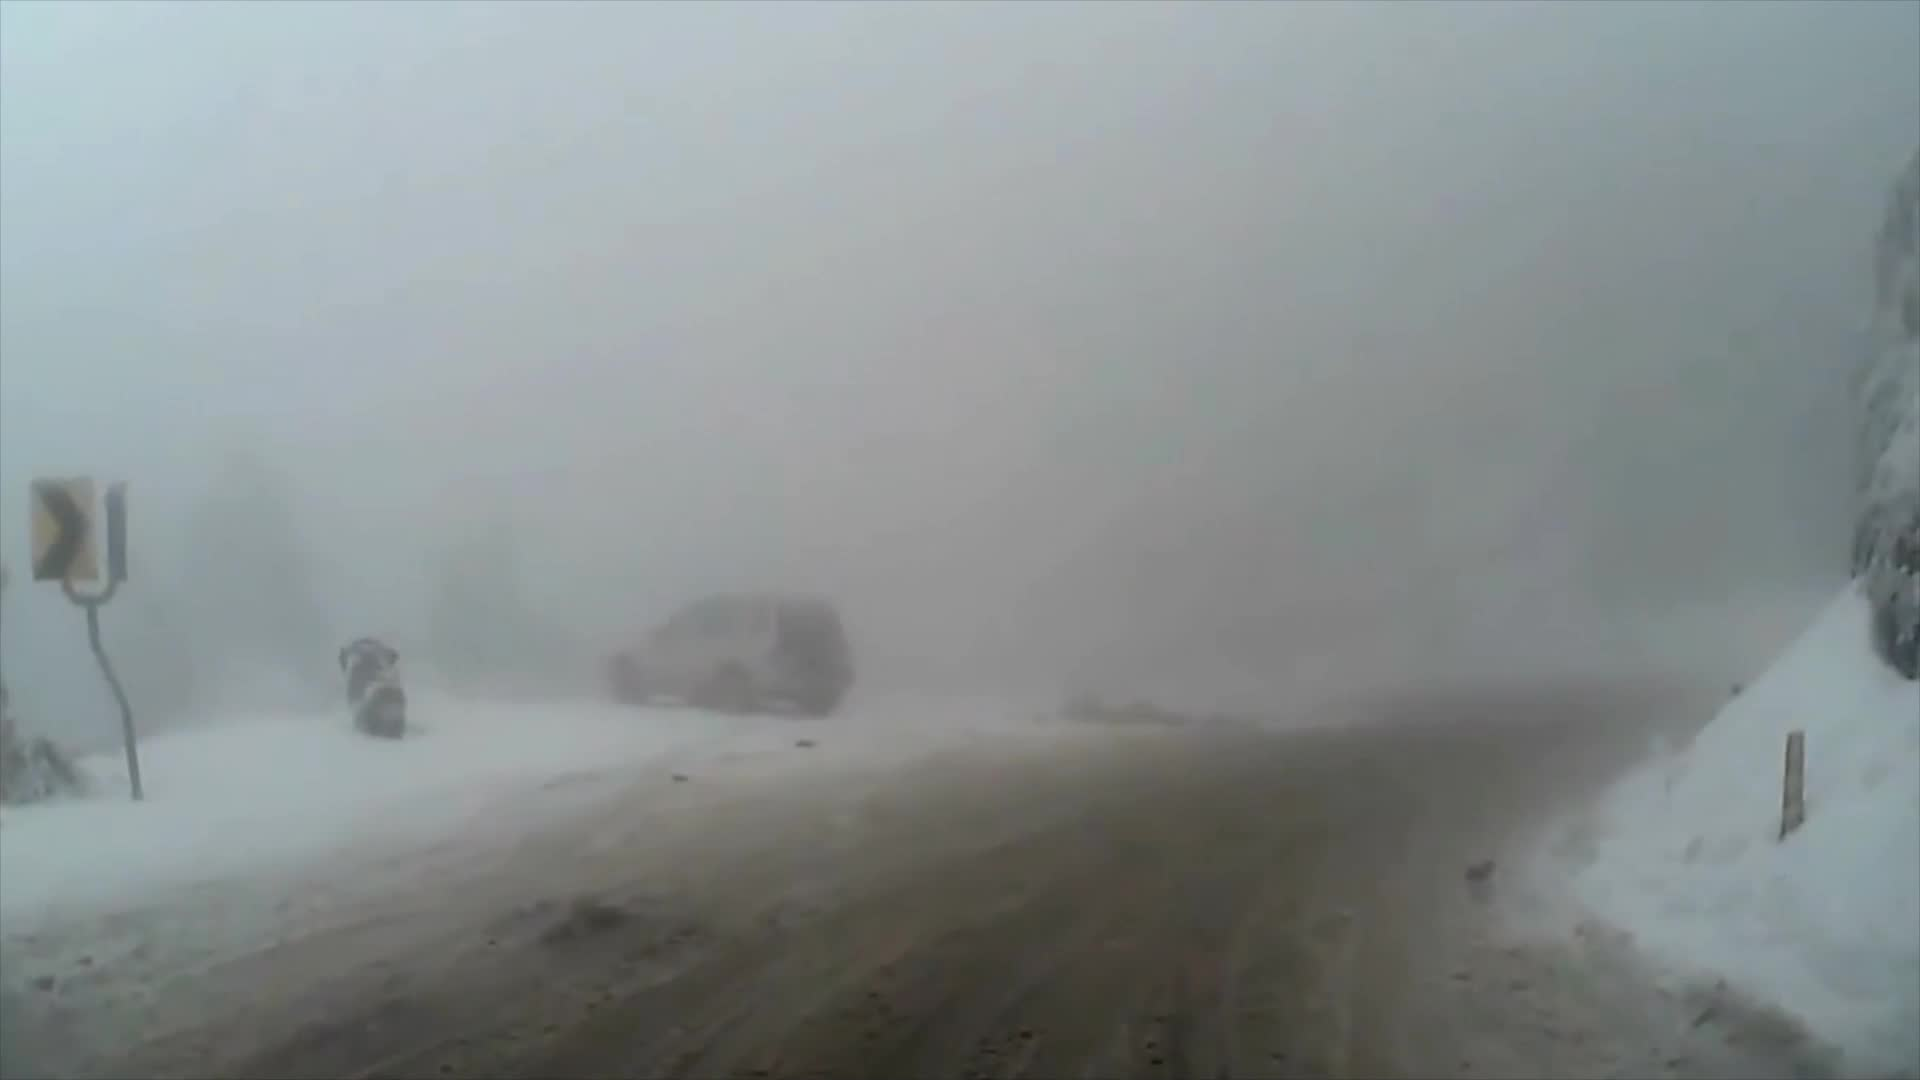vehicle: (609, 593, 857, 716)
